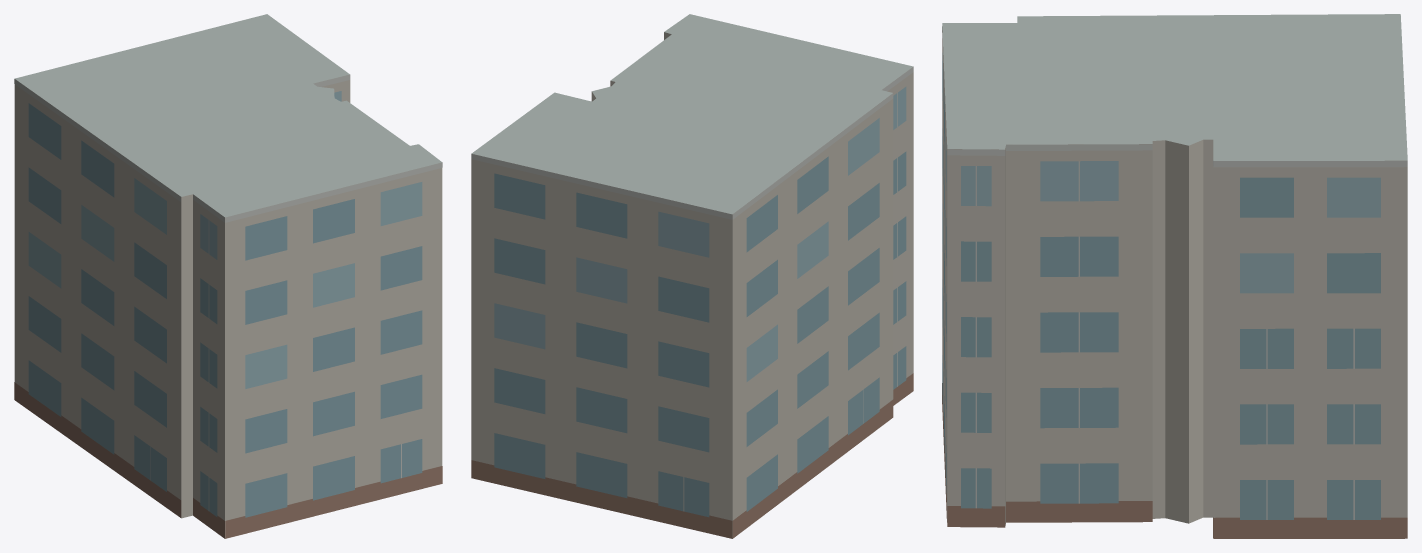
The model's file is survey-upis-32730979.glb.
3 renders of one model, left to right at view 1: azimuth 30°, elevation 25°; view 2: azimuth 150°, elevation 25°; view 3: azimuth 270°, elevation 25°, orthographic. The views are drawn at different scales.
Visible parts, largest first — view 1: survey-upis-32730979.tmp; view 2: survey-upis-32730979.tmp; view 3: survey-upis-32730979.tmp.
Part boxes in pixels (bbox=[...]): survey-upis-32730979.tmp: bbox=[14, 14, 442, 538]; survey-upis-32730979.tmp: bbox=[471, 14, 913, 538]; survey-upis-32730979.tmp: bbox=[942, 14, 1407, 538].
Size of the model in its own units: 12.06 by 14.45 by 16.15.
